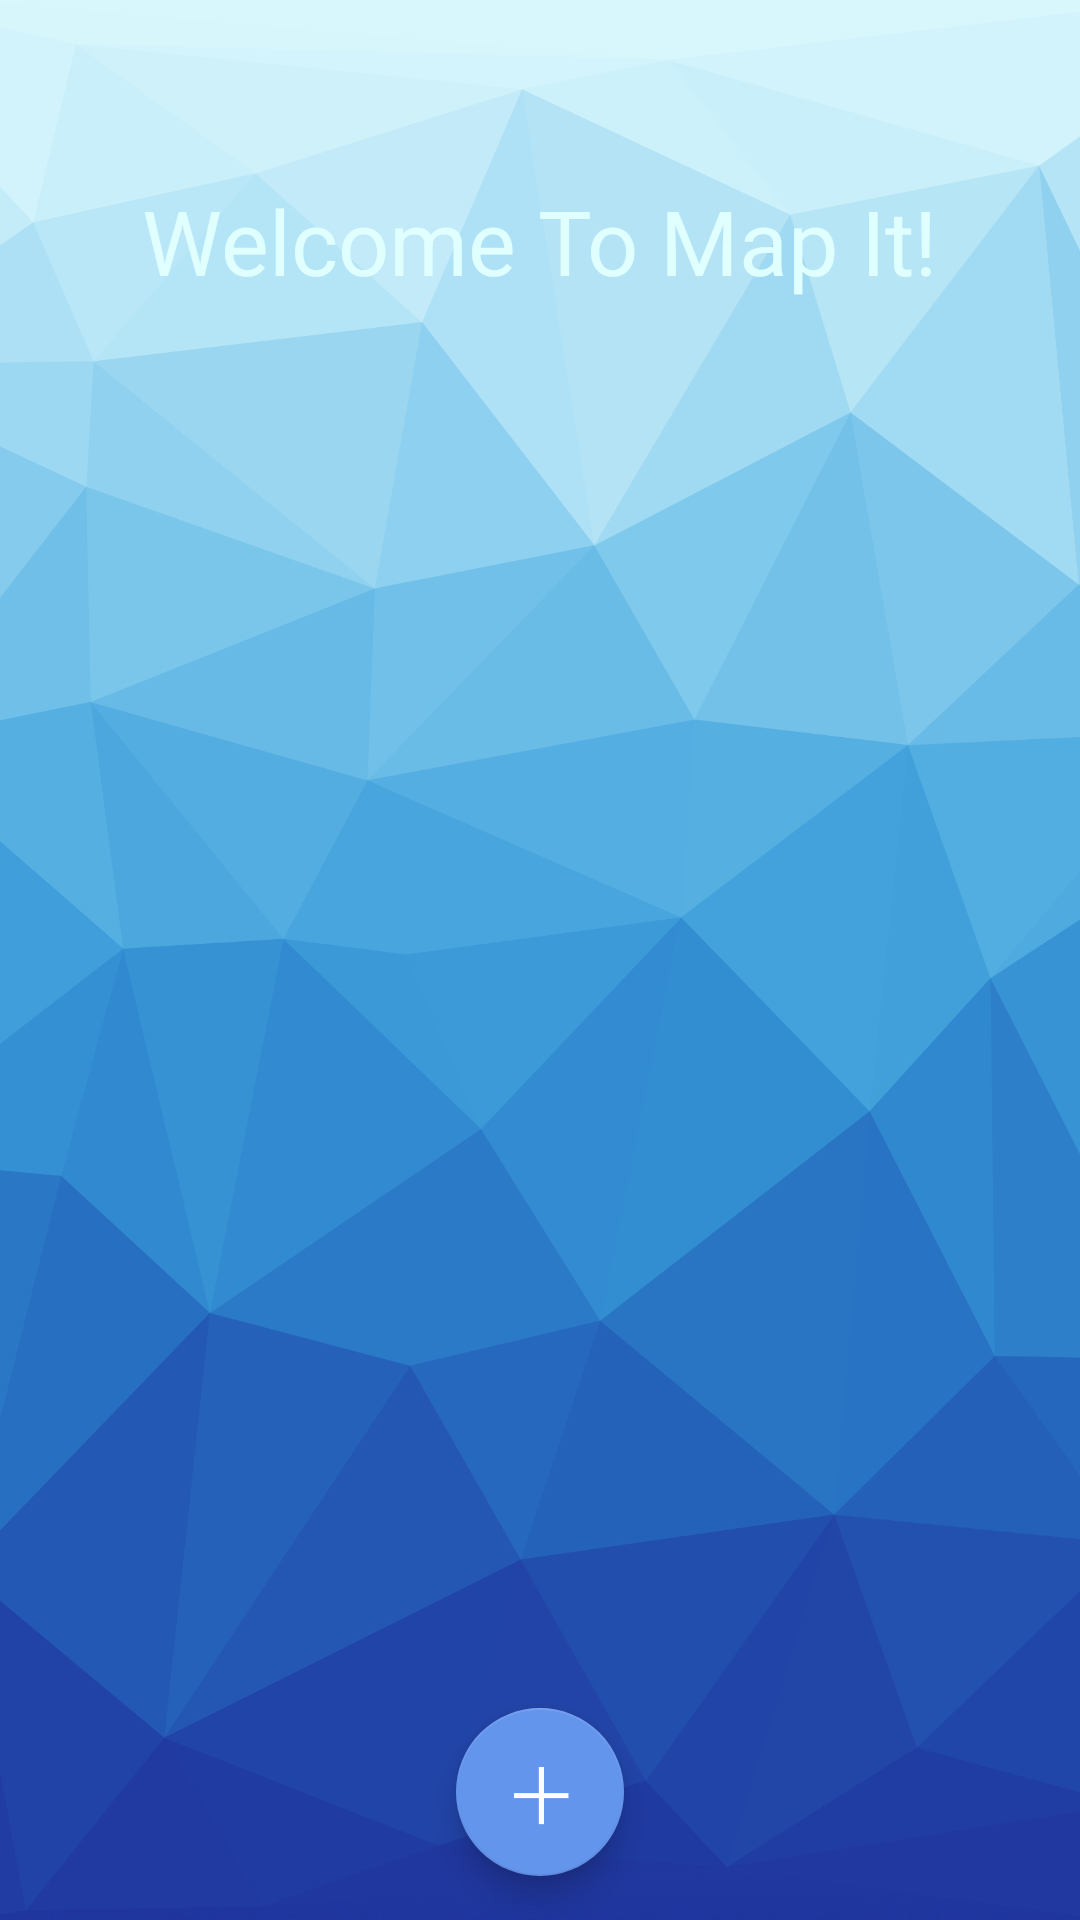

Screen size 1080×1920. Icon name, then its box in pixels as (x1,y1,x2,y2):
floating plus: (456,1708,624,1876)
